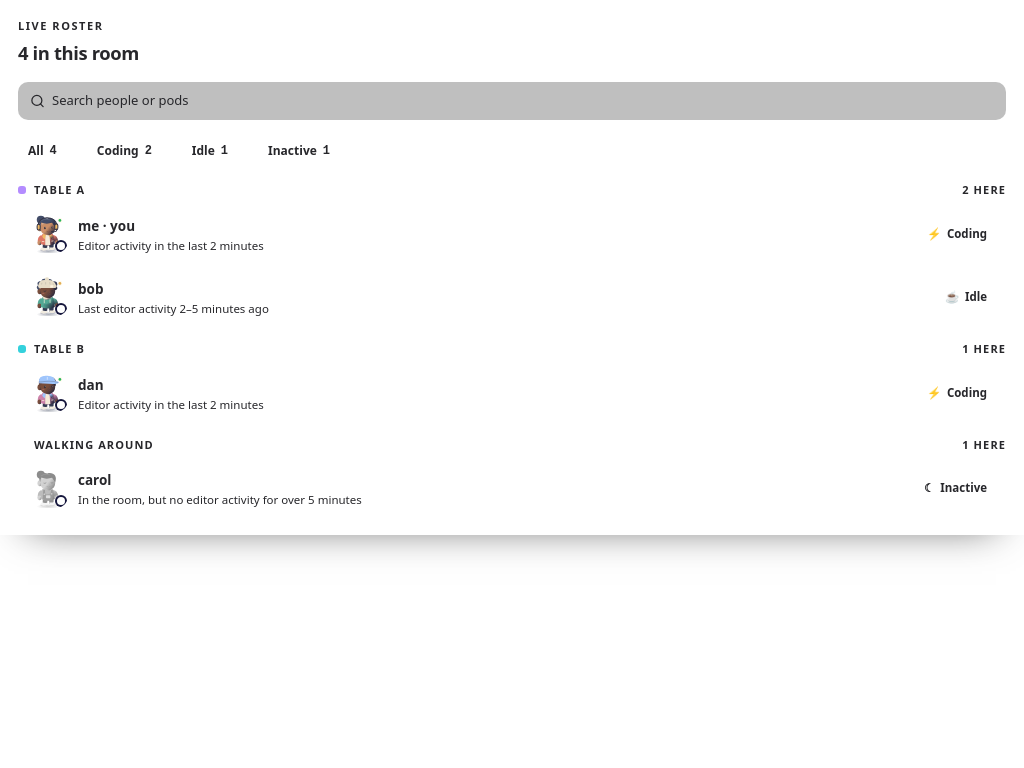
it: PixelOfficeDirectory › filters by status and search, and clears back to everyone
Click the button "Idle 1" at [203, 151], box [168,136,238,166]
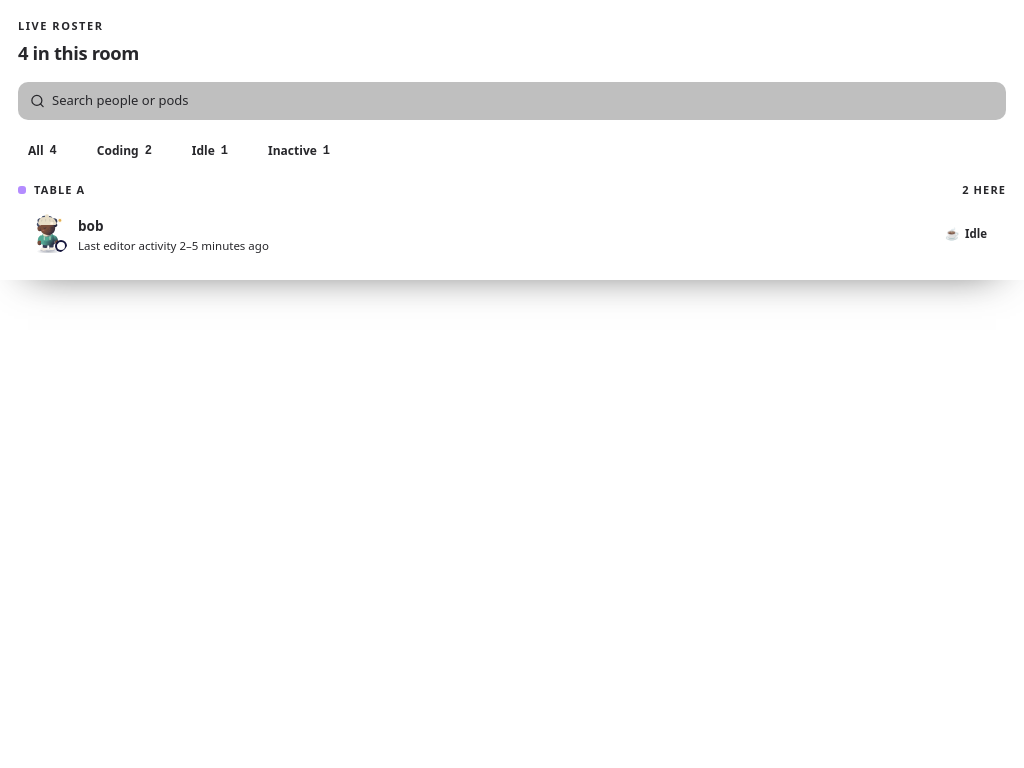
Expected: the number of list items is 1, [18,205,1006,262]
Click the button "Idle 1" at [203, 151], box [168,136,238,166]
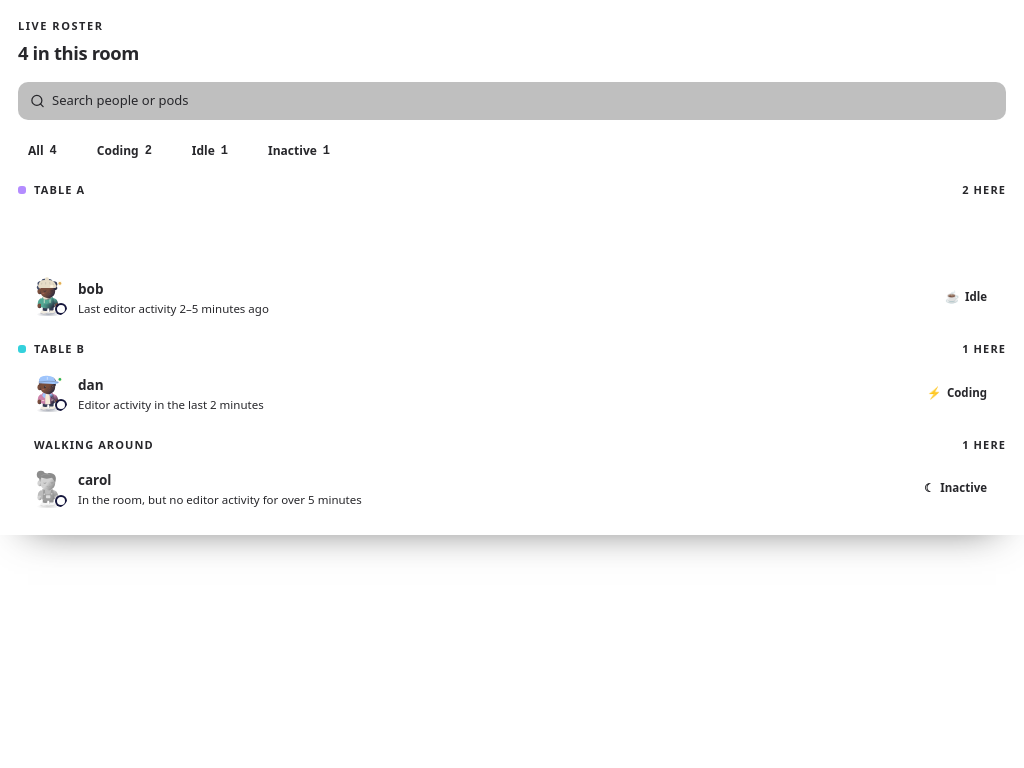
Type "zzz" into the search field at [512, 101], box [18,82,1006,120]
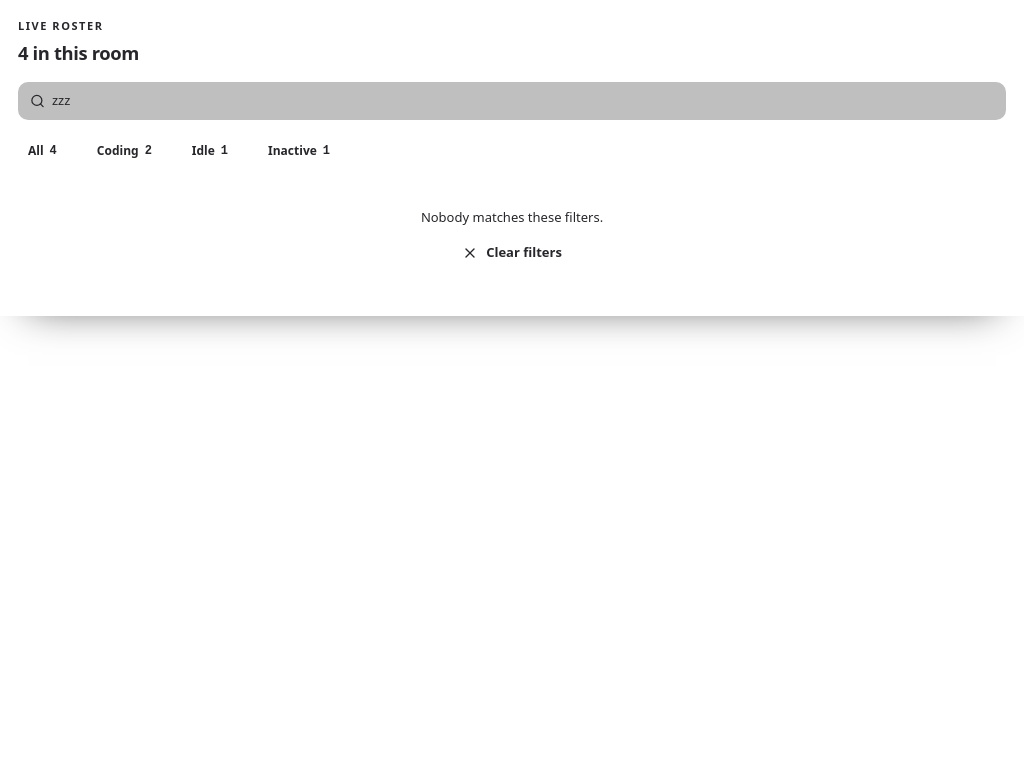
Expected: the text "Nobody matches these filters." is shown, [421,208,603,228]
Click the button "Clear filters" at [512, 253], box [448,234,576,272]
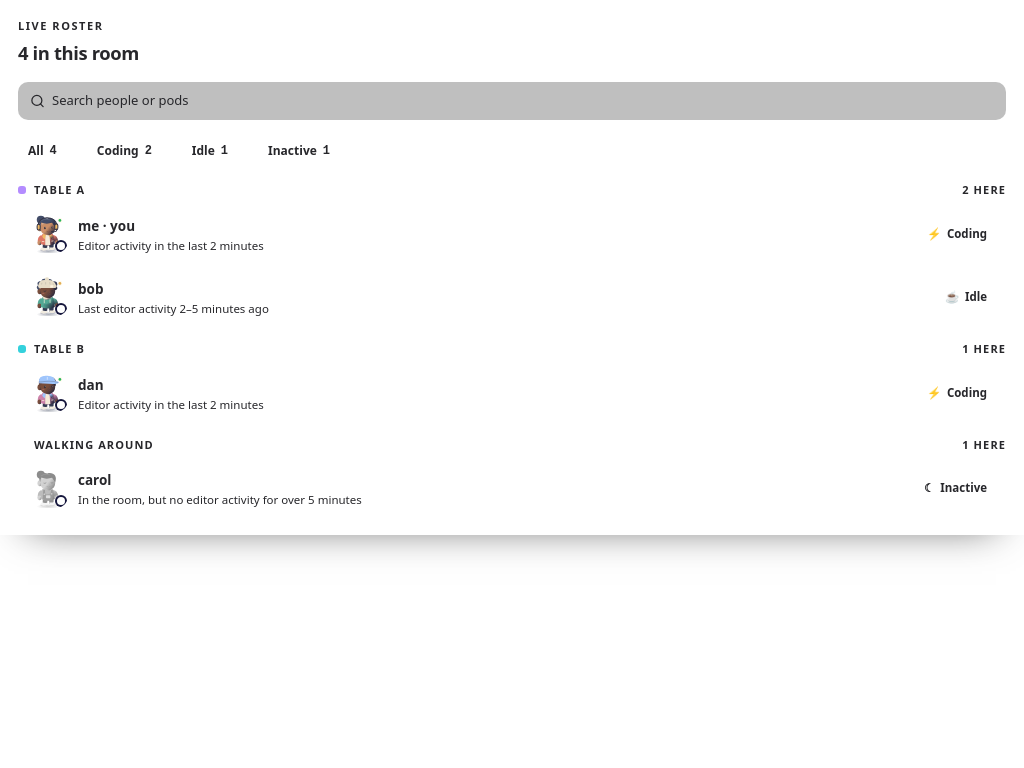
Expected: the number of list items is 4, [18,205,1006,262]; [18,268,1006,325]; [18,364,1006,421]; [18,459,1006,517]
Click the button "Coding 2" at [117, 151], box [73,136,162,166]
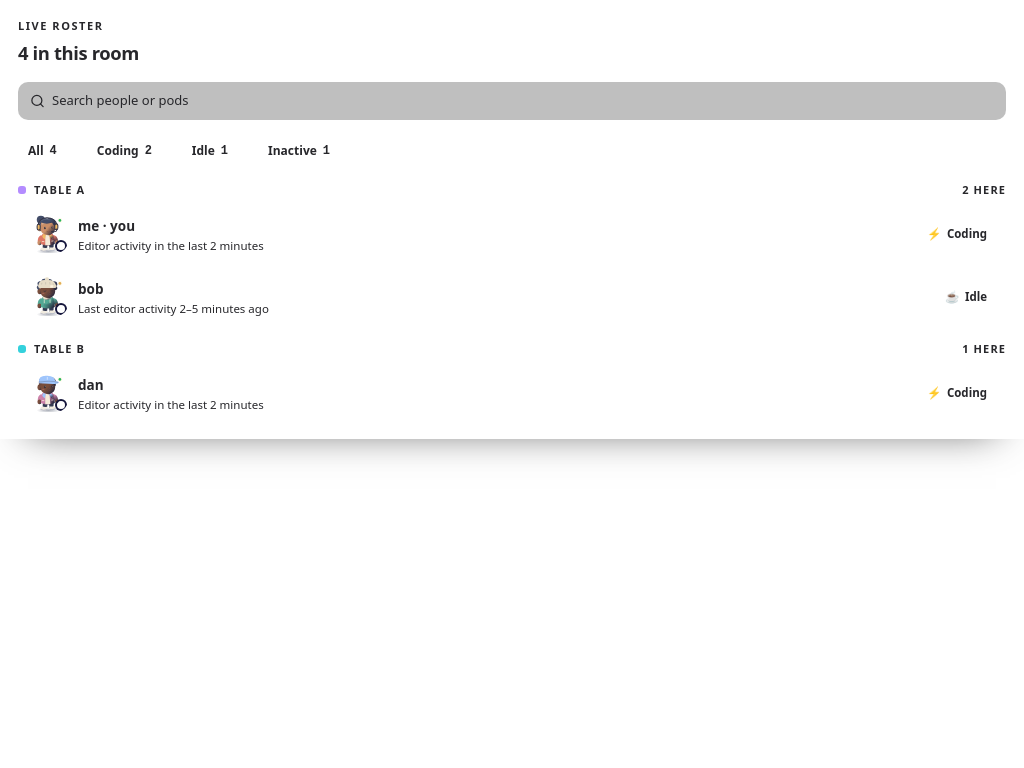
Click the button "All 4" at [42, 151], box [18,136,67,166]
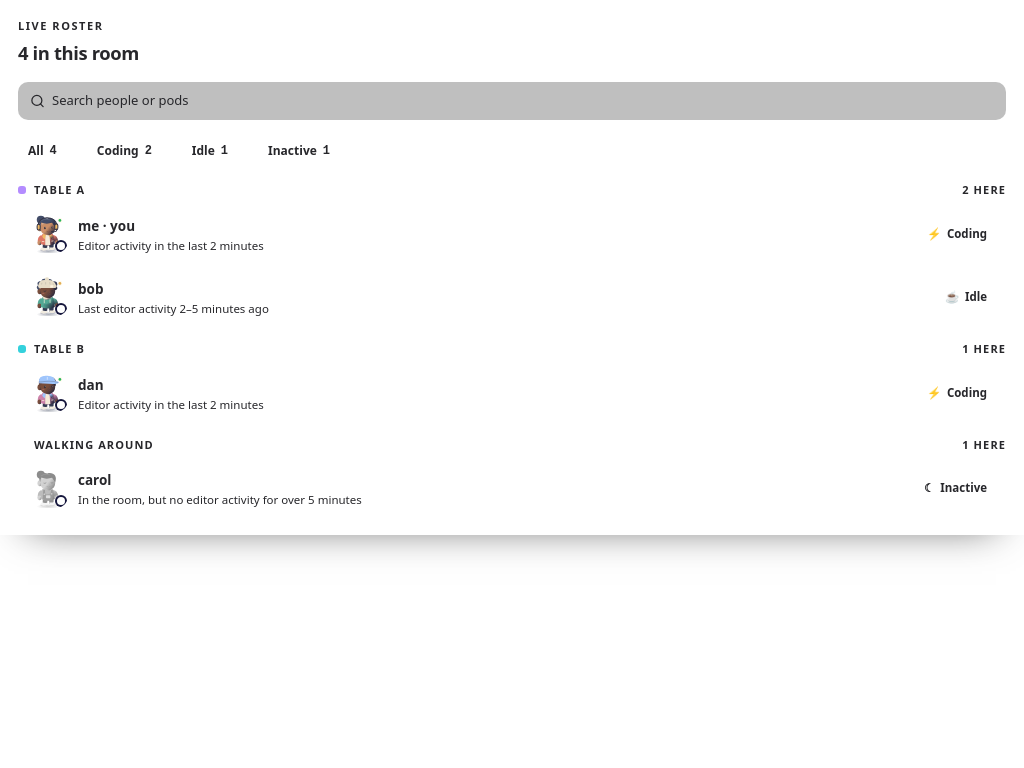
Expected: the number of list items is 4, [18,205,1006,262]; [18,268,1006,325]; [18,364,1006,421]; [18,459,1006,517]
